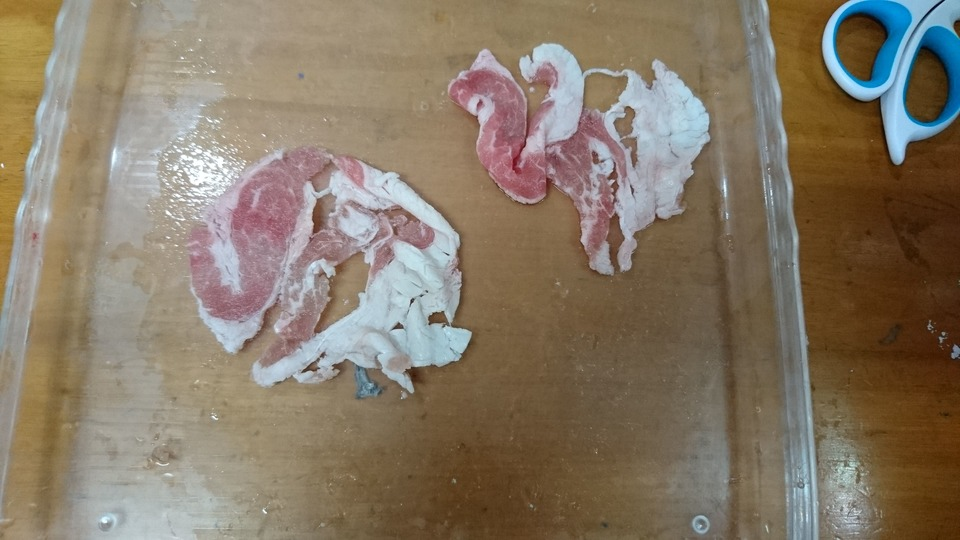restructured meat: (167, 144, 478, 397), (445, 48, 712, 284)
